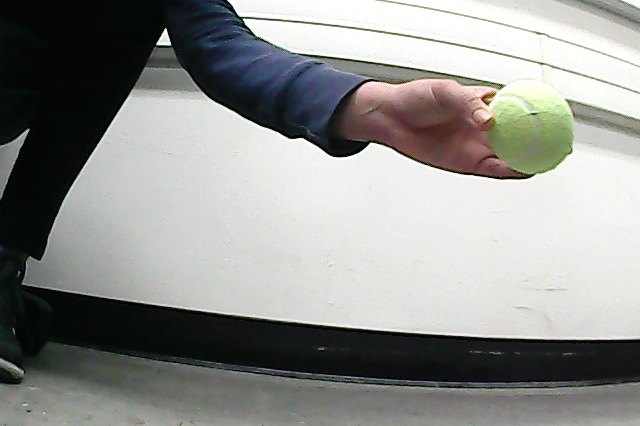ball: (484, 79, 575, 176)
